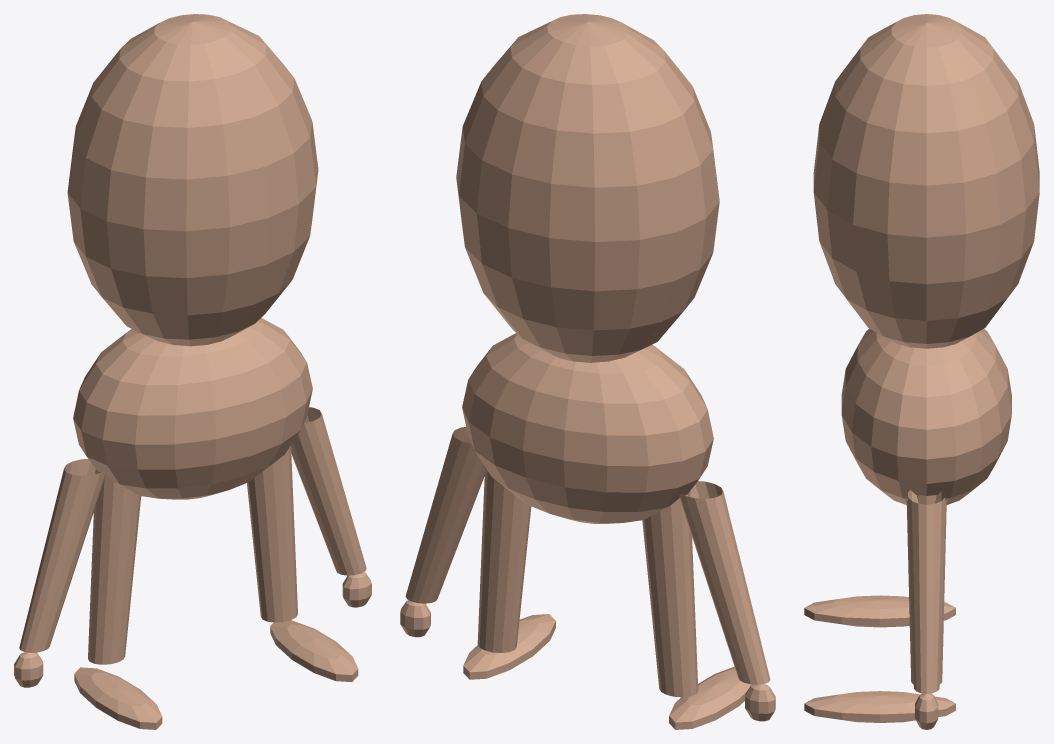
The model's file is peds_patient_child.anny_base.obj.
3 renders of one model, left to right at view 1: azimuth 30°, elevation 25°; view 2: azimuth 150°, elevation 25°; view 3: azimuth 270°, elevation 25°, orthographic. The views are drawn at different scales.
Bounding box in the file's own units: 0.6172 × 1.07 × 0.354.
